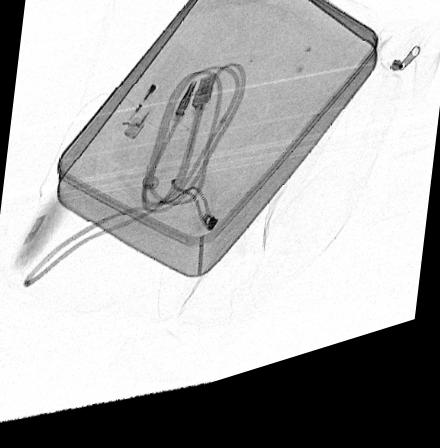Lighter: (117, 56, 190, 148)
